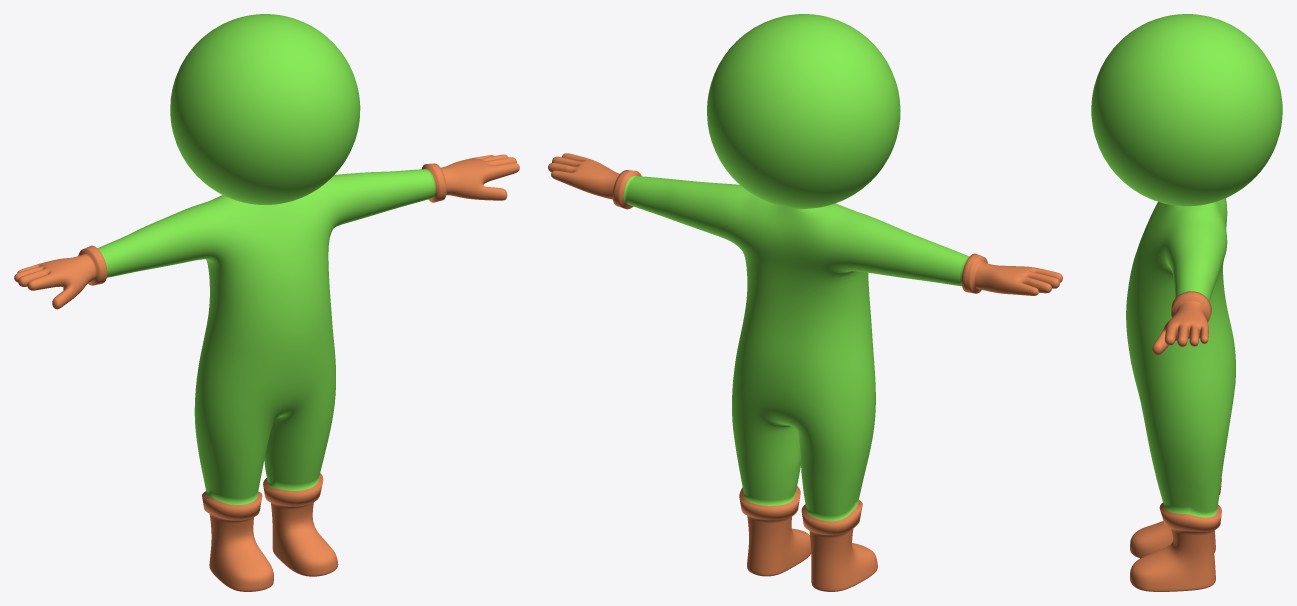
File: unrigged.fbx
The picture shows the model from 3 angles, left to right: view 1: azimuth 30°, elevation 25°; view 2: azimuth 150°, elevation 25°; view 3: azimuth 270°, elevation 25°; orthographic projection.
Visible parts, largest first — view 1: Sphere.001; view 2: Sphere.001; view 3: Sphere.001.
Part boxes in pixels (left/top/right/bottom): Sphere.001: left=14, top=14, right=519, bottom=591; Sphere.001: left=548, top=14, right=1062, bottom=591; Sphere.001: left=1091, top=14, right=1282, bottom=591.
Size of the model in its own units: 247 by 256 by 81.85.
